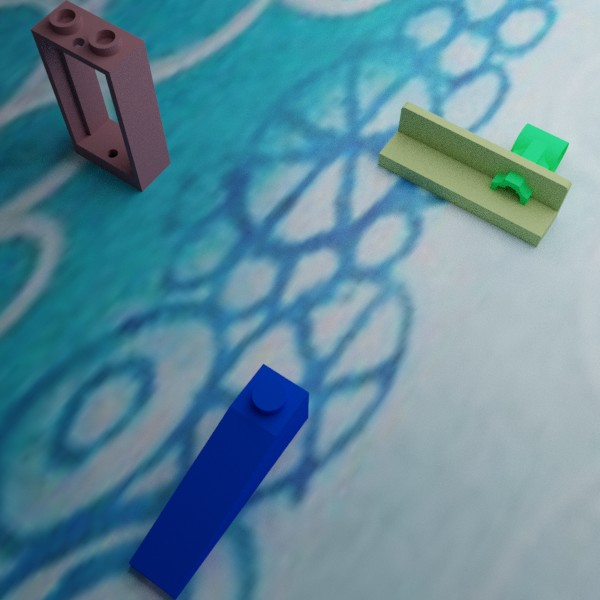lego: (128, 363, 309, 599), (377, 101, 571, 247), (30, 0, 170, 192), (488, 122, 569, 210)
